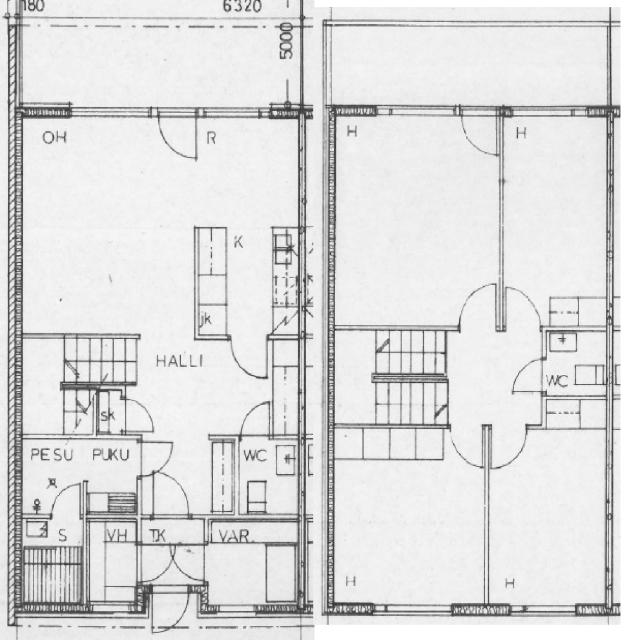door: (158, 108, 196, 159), (460, 105, 497, 156), (153, 584, 189, 634), (459, 284, 496, 330), (153, 474, 189, 518), (231, 335, 266, 379), (136, 545, 174, 582), (507, 288, 540, 330), (449, 425, 482, 466), (491, 425, 524, 466), (173, 545, 209, 580), (136, 442, 171, 475), (121, 399, 154, 432), (512, 359, 546, 391), (52, 482, 80, 518), (241, 404, 269, 438)
